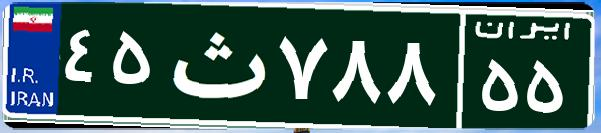4: (57, 26, 110, 107)
5: (475, 38, 525, 113), (110, 28, 158, 105), (525, 38, 570, 115)
7: (273, 28, 330, 110)
8: (385, 28, 445, 110), (330, 28, 385, 110)
ث: (158, 15, 273, 115)
